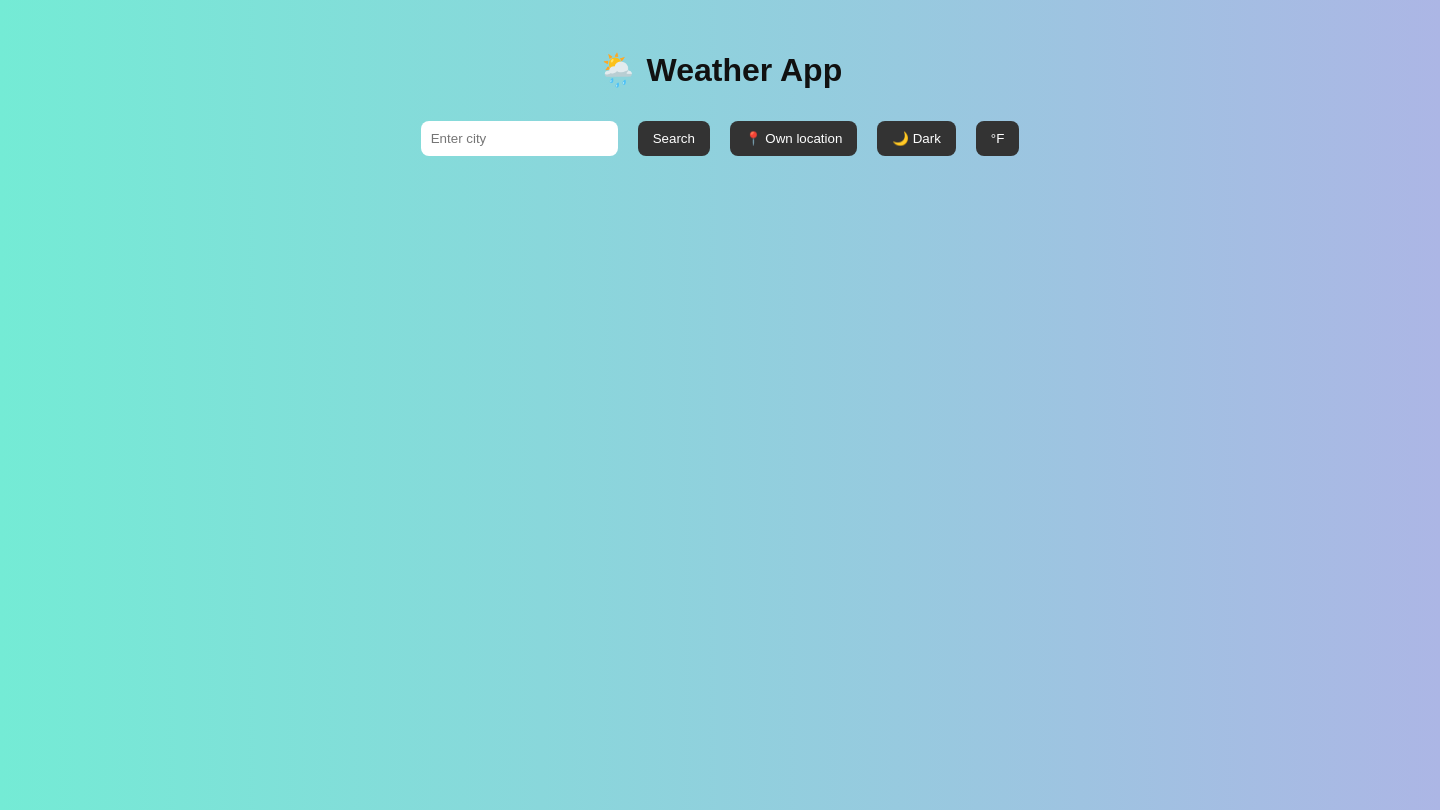
Weather › accessibility › names the unit button by what it does
Click the button named "Show temperatures in Fahrenheit".
click(998, 138)  # box [976,121,1019,156]
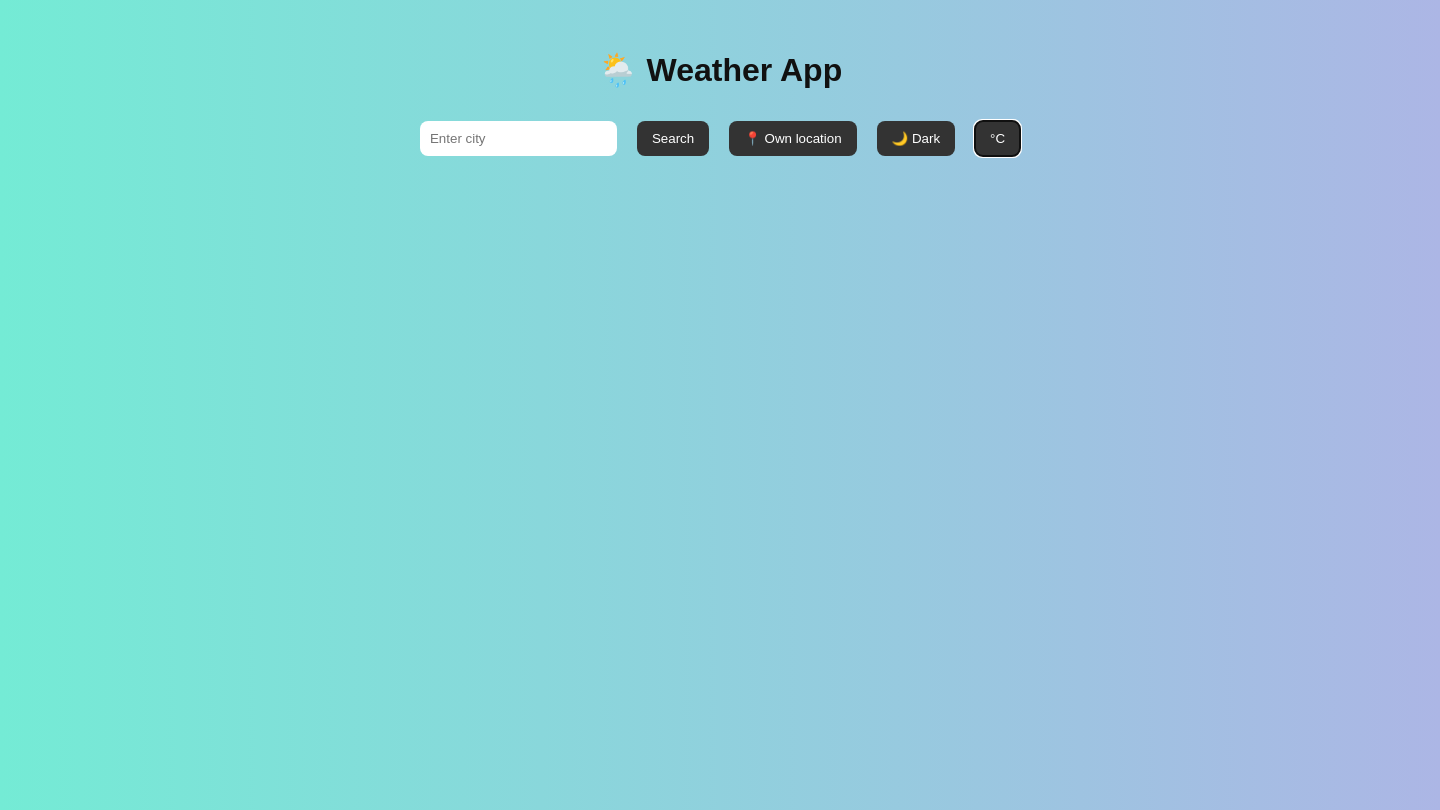
Expected: the button named "Show temperatures in Celsius" reads "°C", [975,121,1020,156]
